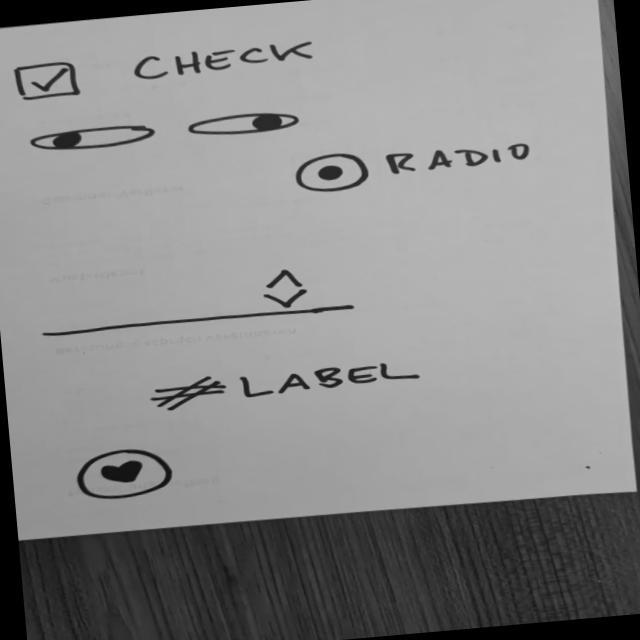checkbox: (10, 34, 325, 104)
icon-button: (70, 442, 178, 504)
label: (143, 352, 424, 415)
number-input: (31, 260, 362, 341)
radio: (289, 132, 542, 196)
toggle: (23, 120, 162, 156), (183, 106, 304, 140)
